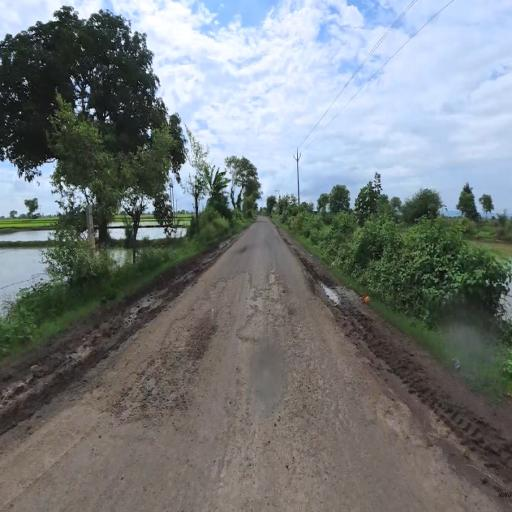ravelling: (136, 269, 340, 452)
